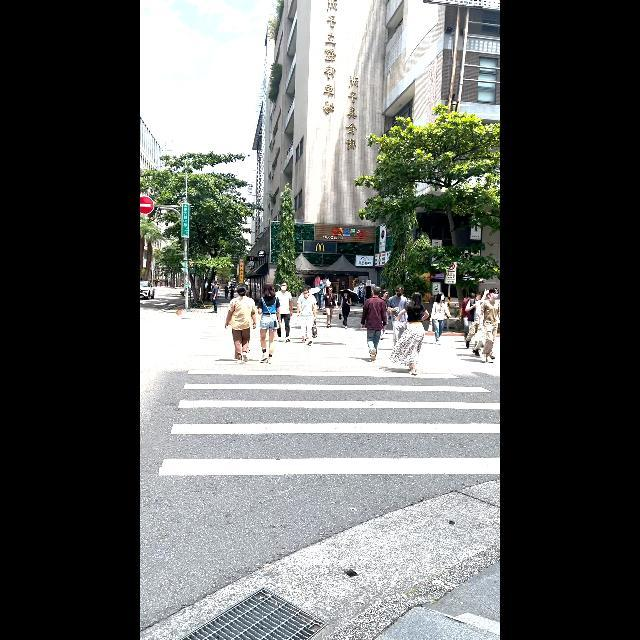sidewalk: (149, 370, 500, 625)
